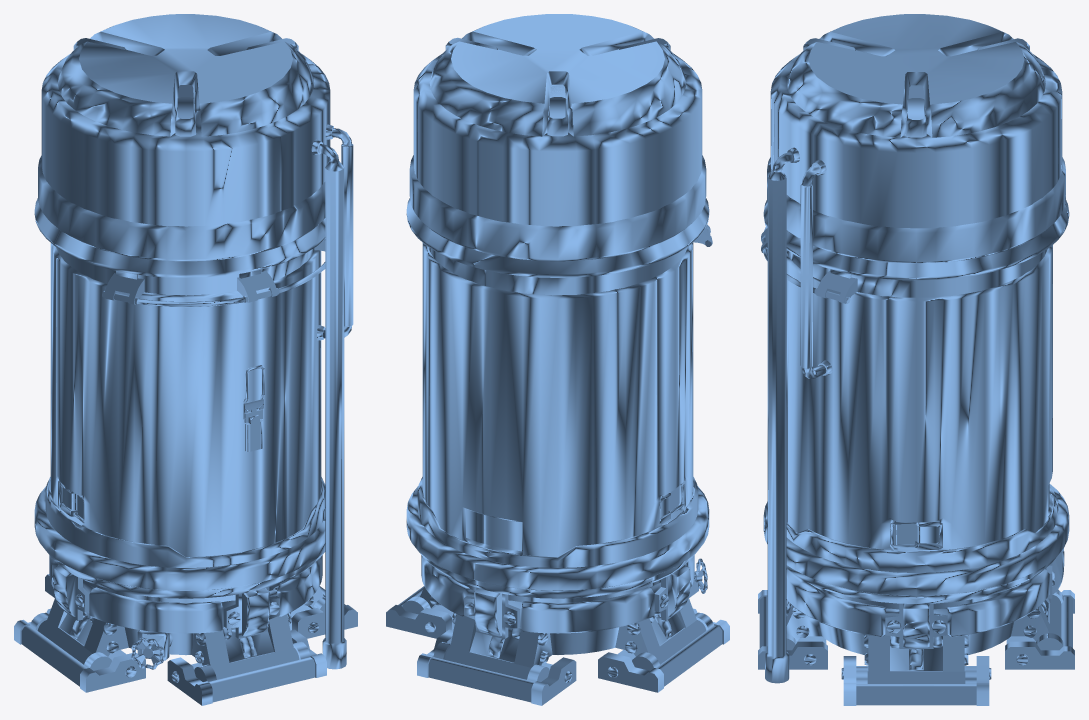
File: uee_lawless_prop_fueltank_verticle_01.glb
3 views of the same model, side by side, from view 1: azimuth 30°, elevation 25°; view 2: azimuth 150°, elevation 25°; view 3: azimuth 270°, elevation 25° (orthographic).
Size of the model in its own units: 1.96 by 3.95 by 1.96.
